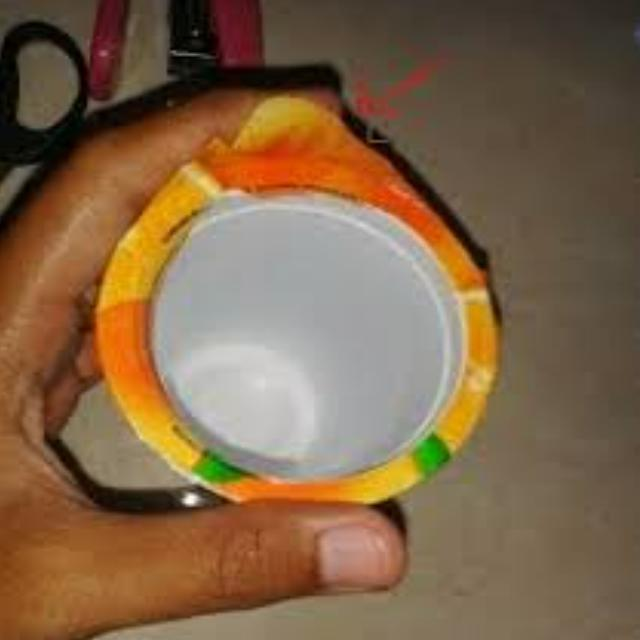GelasPlastik: (87, 86, 502, 508)
